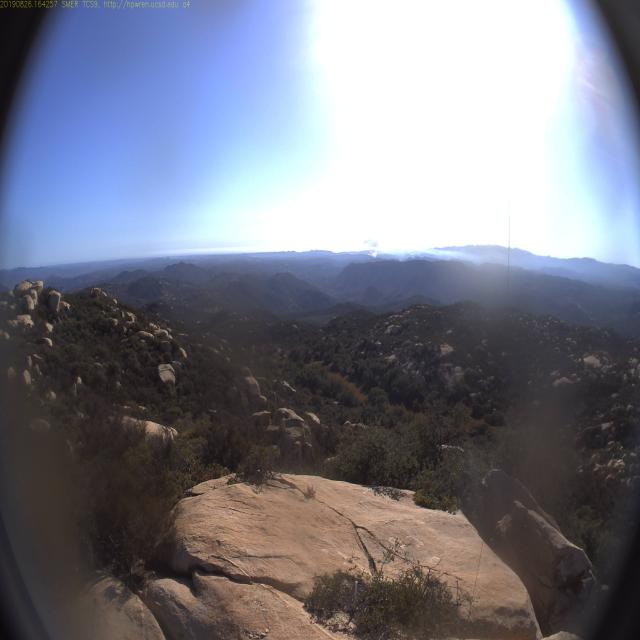smoke: (368, 246, 381, 258)
